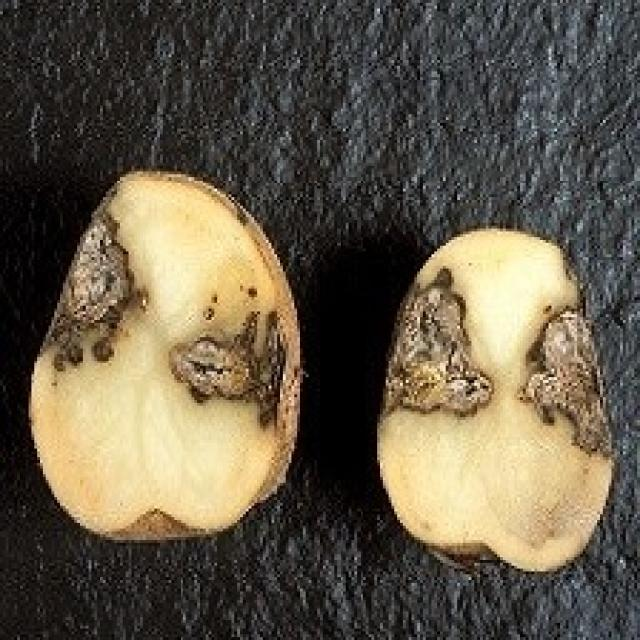blackleg: (23, 160, 311, 560), (372, 206, 626, 584)
